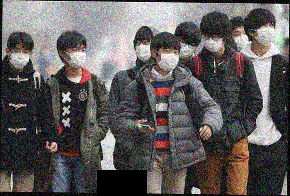with_mask: (64, 44, 88, 70), (255, 22, 278, 48), (199, 32, 225, 53), (157, 48, 179, 72), (133, 36, 153, 62), (9, 46, 31, 68), (232, 28, 251, 51), (176, 39, 197, 59)
